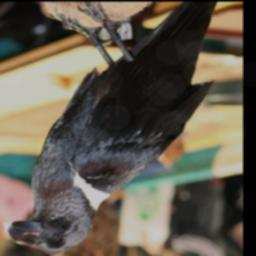Crow: (3, 2, 219, 256)
